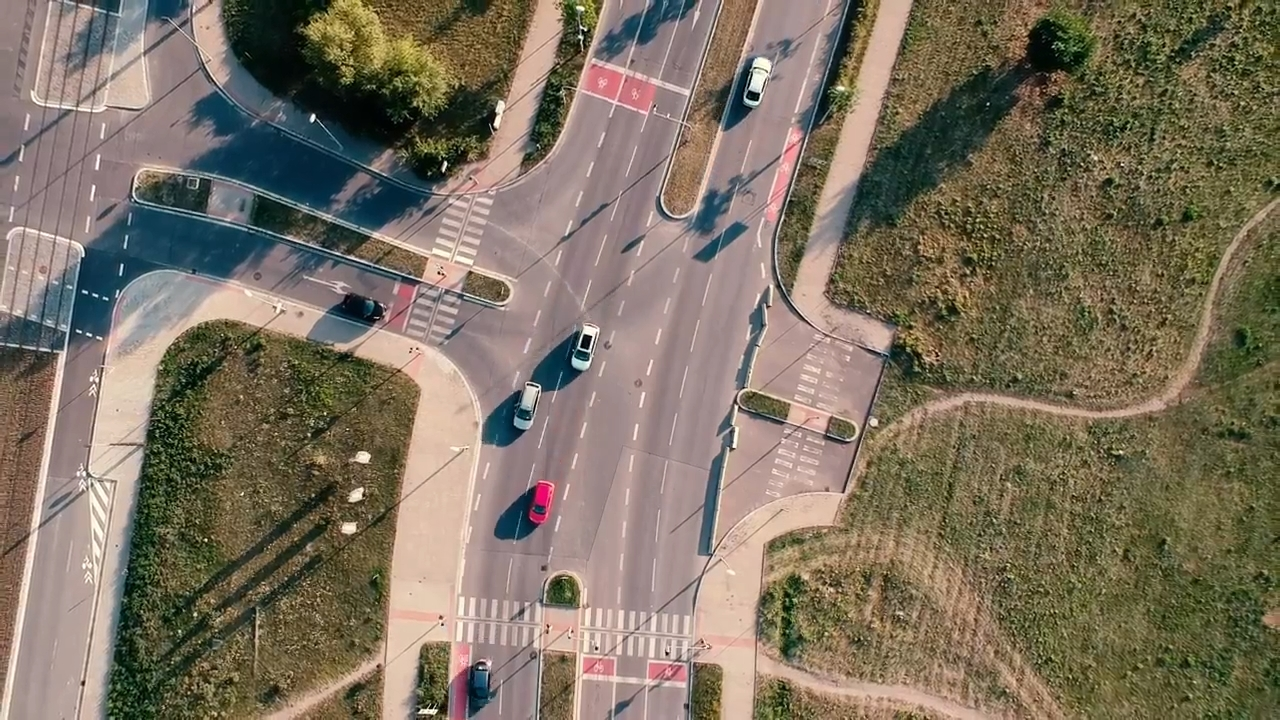car: (740, 53, 774, 110), (338, 290, 389, 324), (508, 381, 542, 431), (464, 657, 497, 708), (568, 320, 599, 372), (528, 475, 557, 529)
